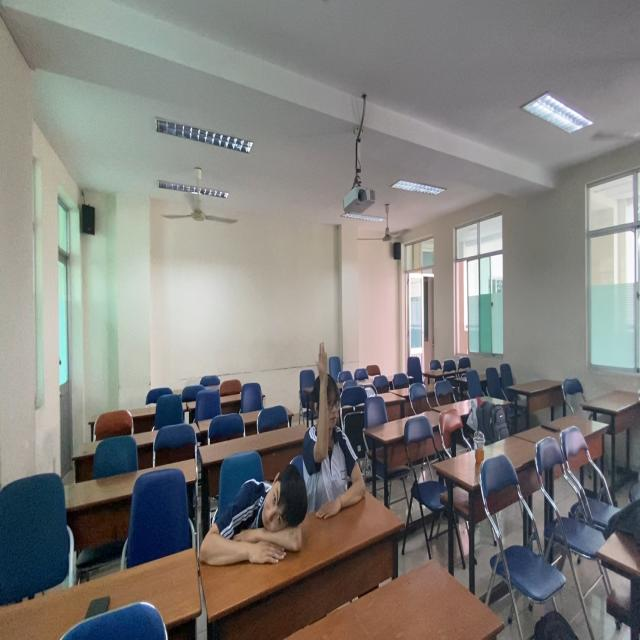raise_hand: (305, 342, 371, 512)
sleep: (195, 450, 310, 563)
